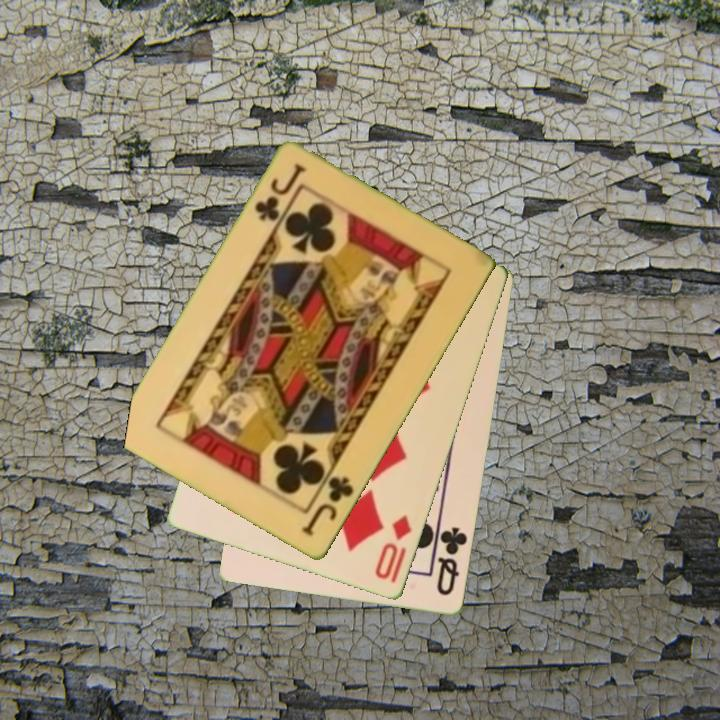10d: (371, 511, 415, 583)
Jc: (298, 473, 357, 540), (251, 160, 310, 225)
Qc: (433, 523, 471, 599)
